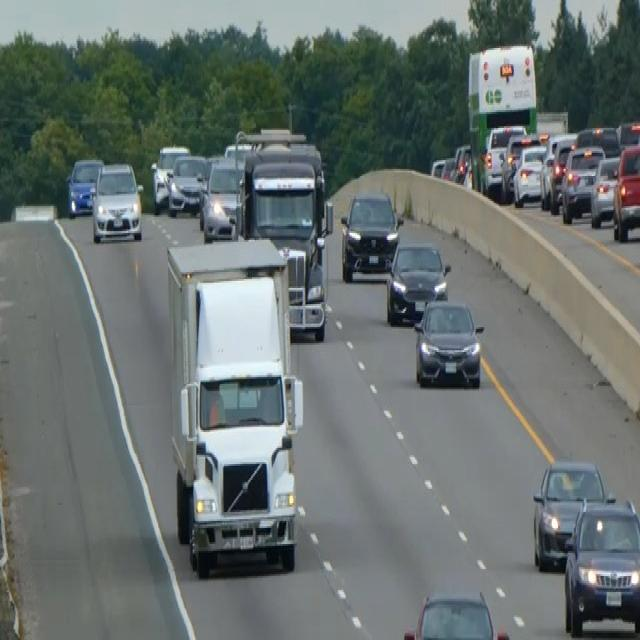bus: (465, 41, 538, 194)
car: (563, 494, 639, 636), (532, 457, 609, 571), (413, 297, 484, 387), (340, 188, 403, 281), (385, 240, 451, 325), (402, 588, 510, 638), (91, 160, 143, 242), (200, 155, 243, 240), (561, 142, 605, 222), (481, 122, 525, 194), (150, 144, 190, 213), (500, 133, 539, 201), (612, 142, 639, 240), (167, 153, 207, 217), (589, 154, 620, 228), (66, 156, 103, 217), (512, 142, 546, 206), (549, 137, 577, 211), (574, 124, 621, 160), (197, 153, 221, 222), (149, 160, 169, 213), (452, 142, 471, 183), (616, 118, 639, 150)
lorry: (164, 233, 303, 578)
